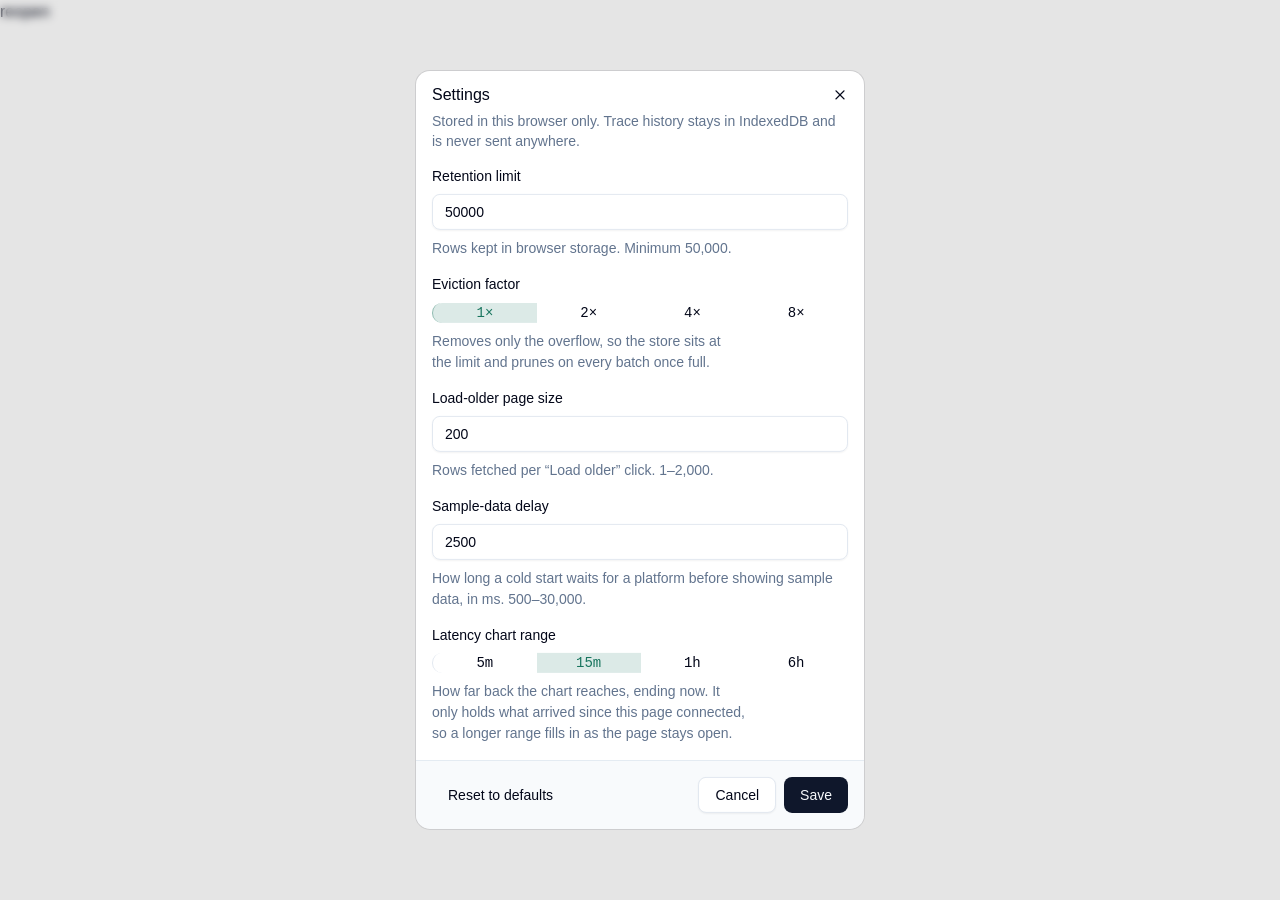
Test case: a limit the console cannot honour › says why, and will not let it be saved
This screenshot has width=1280, height=900.
Replace the text in the number field labelled "Retention limit" with "100": (640, 212) [432, 194, 848, 230]
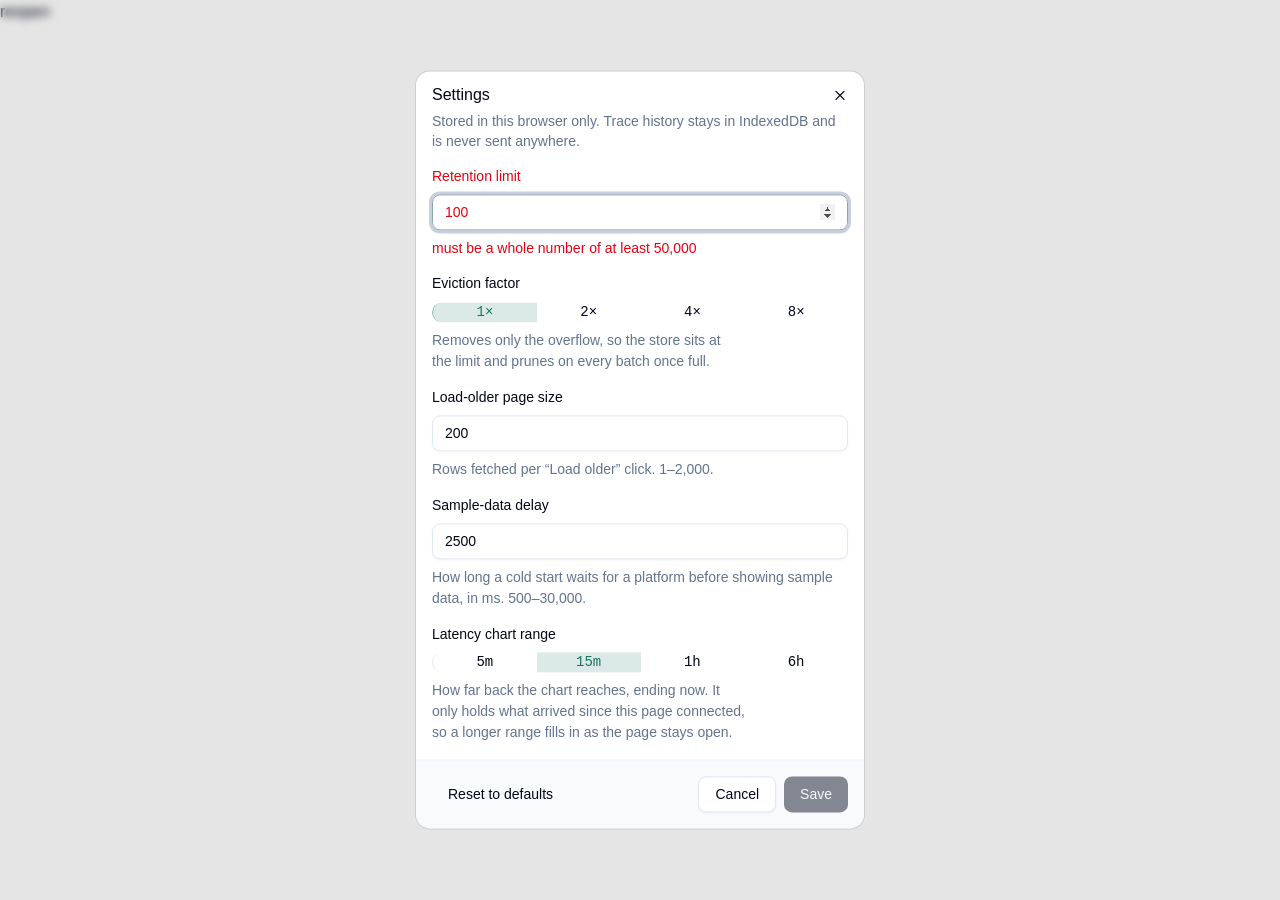
Now the text "must be a whole number of at least 50,000" is shown, box [432, 241, 697, 257]
Now the button "Save" is disabled, box [784, 777, 848, 813]
